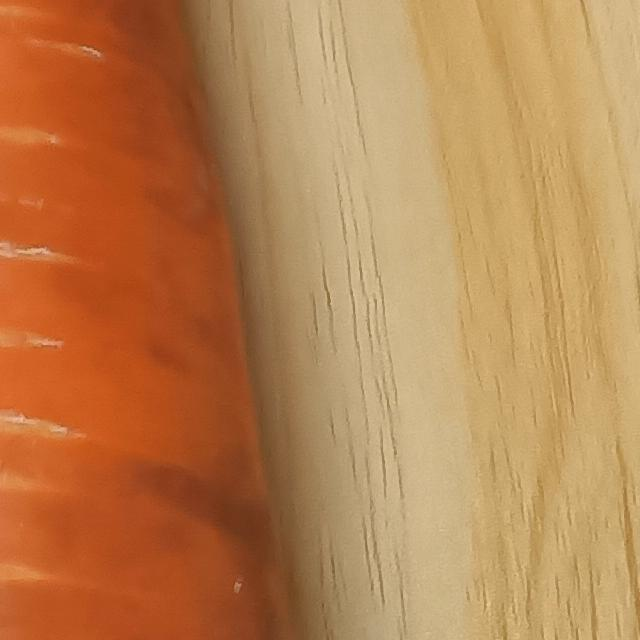carrot: (1, 1, 331, 640)
